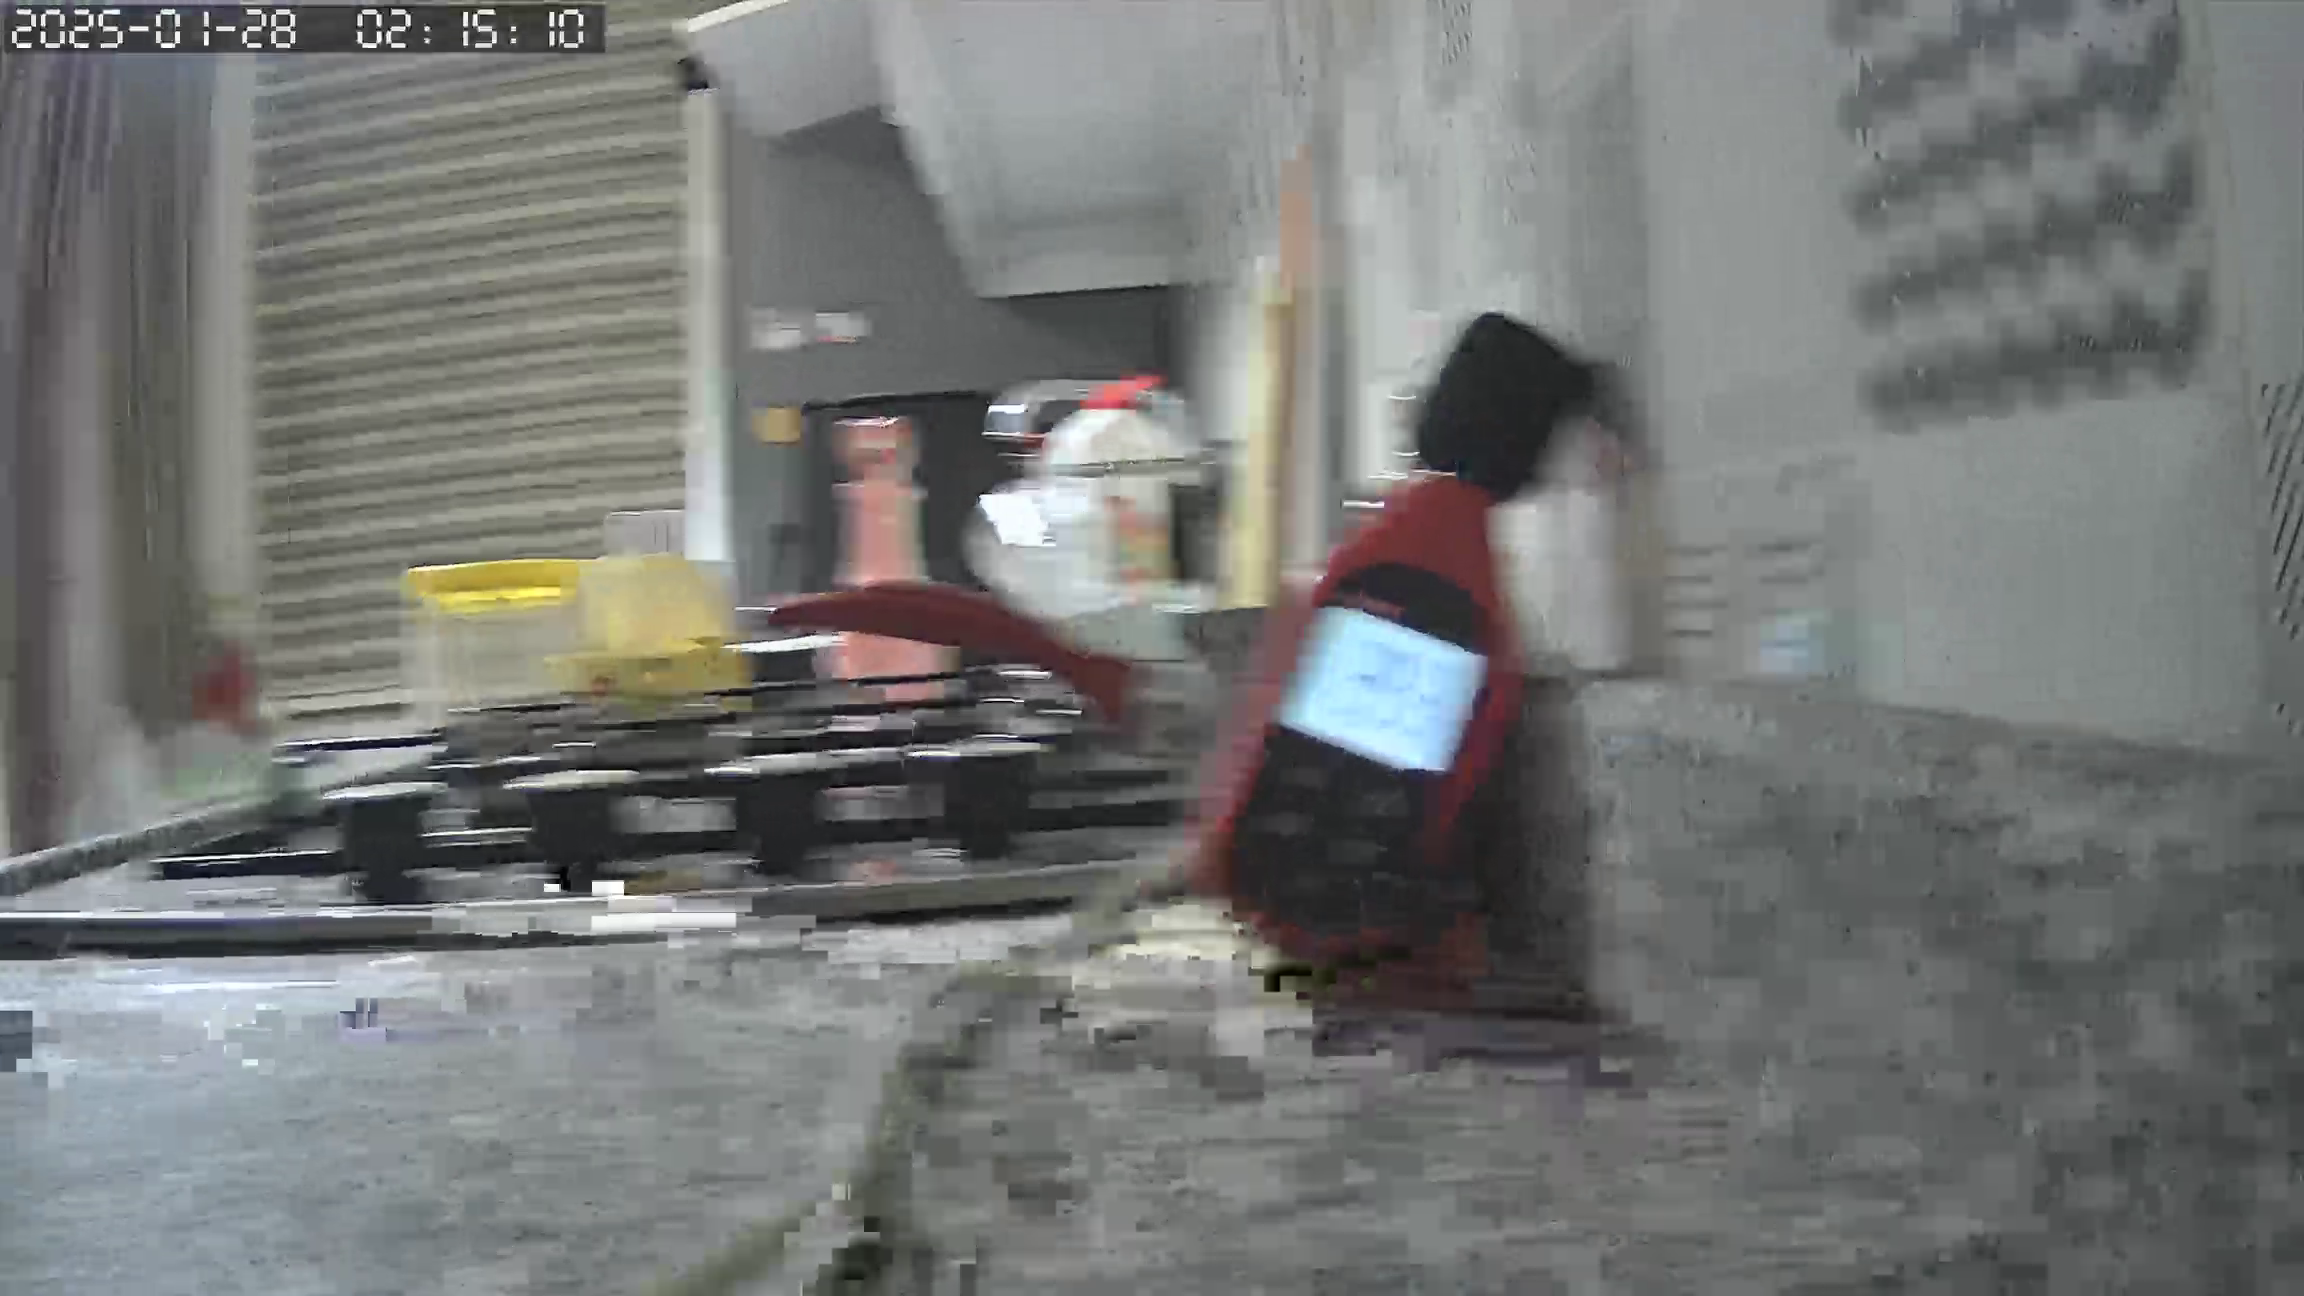screen: (1272, 603, 1483, 775)
